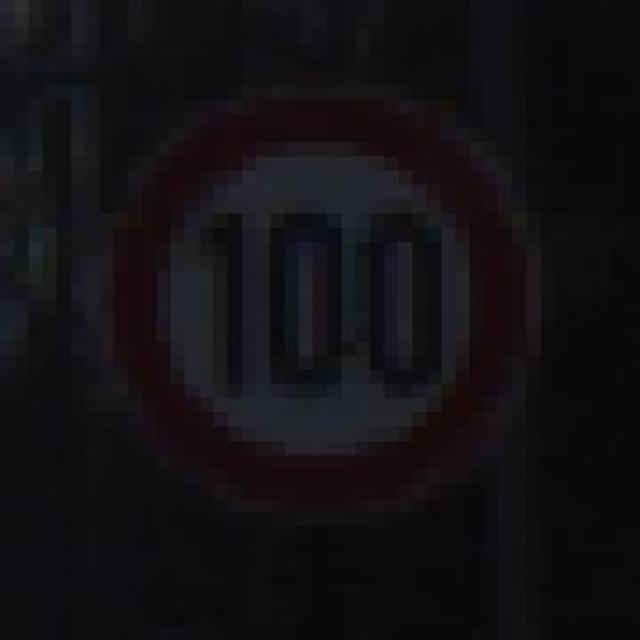forb_speed_over_100: (107, 92, 530, 516)
